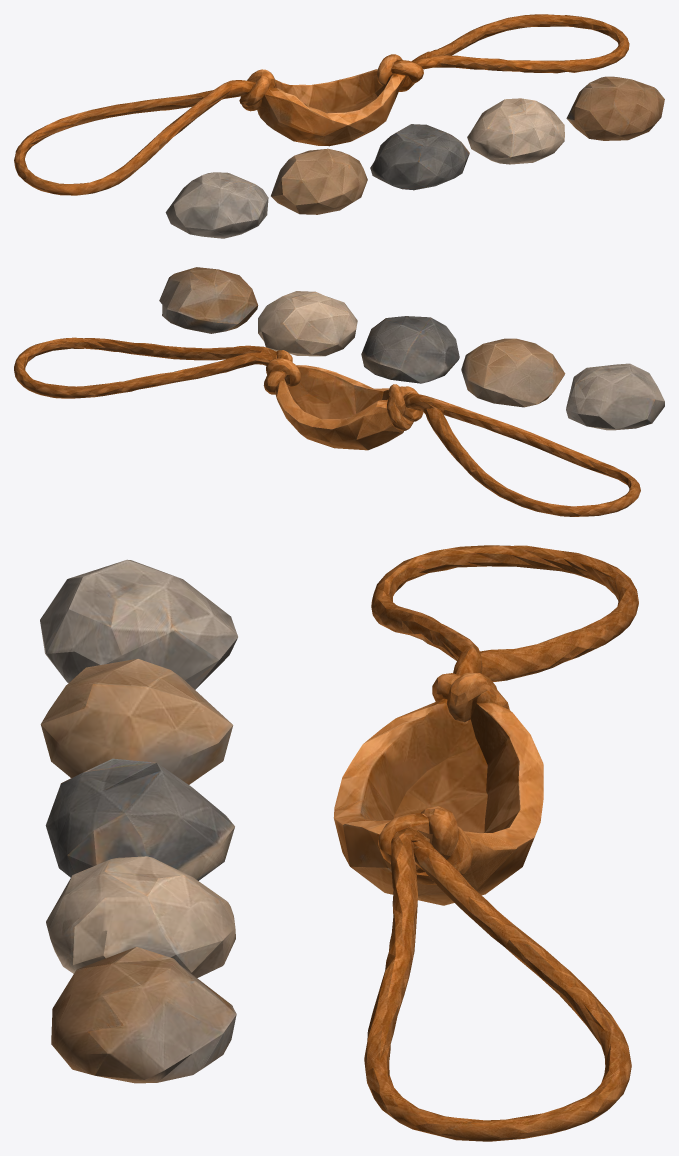
File: sling-five-stones.glb
The picture shows the model from 3 angles, top to bottom: view 1: azimuth 30°, elevation 25°; view 2: azimuth 150°, elevation 25°; view 3: azimuth 270°, elevation 25°; orthographic projection. The views are drawn at different scales.
Size of the model in its own units: 1.9 by 0.2255 by 0.8261.
1 material, 1 textured.
